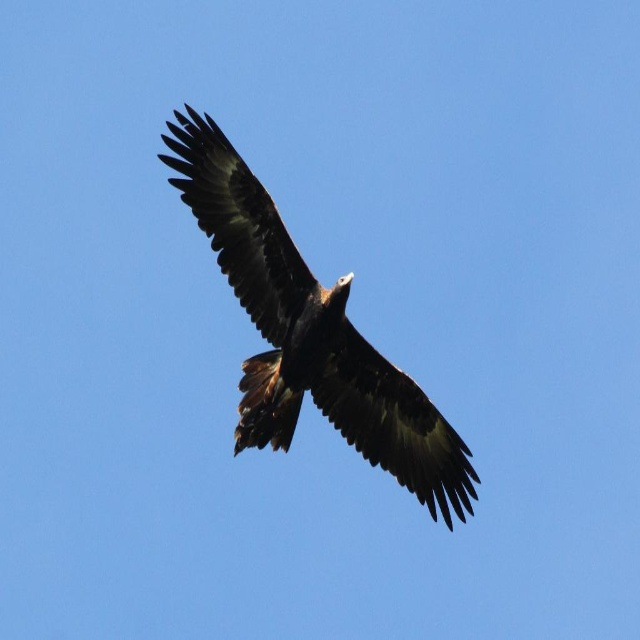Eagle: (157, 104, 480, 531)
